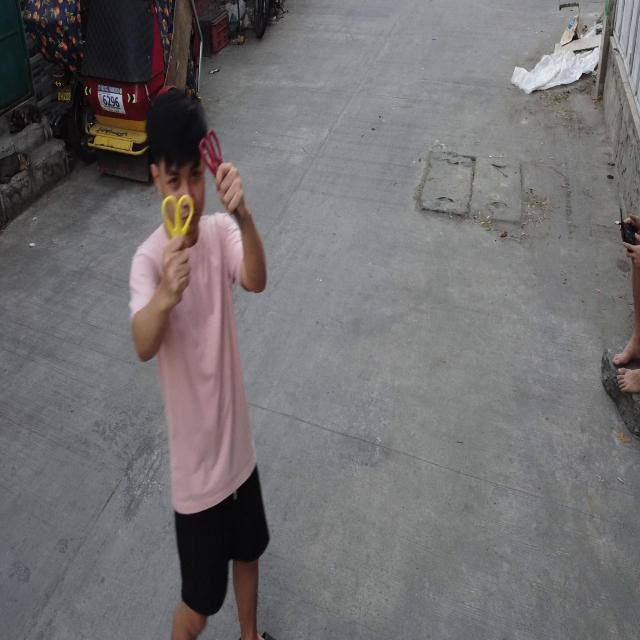scissor: (198, 128, 243, 231), (161, 192, 194, 306)
